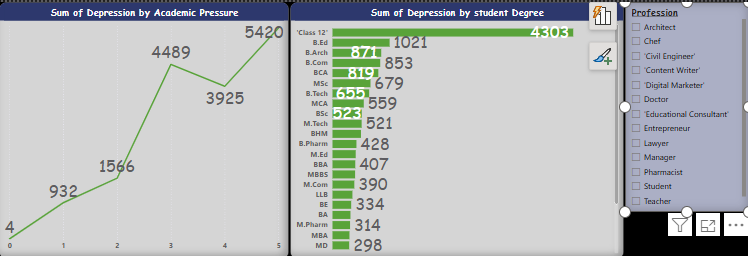

What the dashboard file says about the page in this screenshot:
{"tool":"powerbi","page":{"name":"Page 2","canvas":[1500,514],"ordinal":1},"visuals":[{"type":"lineChart","fields":{"Category":["student_depression_dataset.Academic Pressure"],"Y":["Sum(student_depression_dataset.Depression)"]},"box":[0,0,580,514],"z":0},{"type":"clusteredBarChart","title":"Sum of Depression by student Degree","fields":{"Category":["student_depression_dataset.Degree"],"Y":["Sum(student_depression_dataset.Depression)"]},"box":[582,0,668,514],"z":1000},{"type":"slicer","fields":{"Values":["student_depression_dataset.Profession"]},"box":[1252,0,248,420],"z":2000}]}

Visuals, with their boxes on the page's 1500x514 design canvas (x1, y1, x2, y2). These are canvas units, not pixel positions in the 748x256 screenshot, which may show the page scaled, cropped or inside an application window:
lineChart - student_depression_dataset.Academic Pressure x Sum(student_depression_dataset.Depression): <box>0,0,580,514</box>
"Sum of Depression by student Degree" clusteredBarChart: <box>582,0,1250,514</box>
slicer - student_depression_dataset.Profession: <box>1252,0,1500,420</box>
